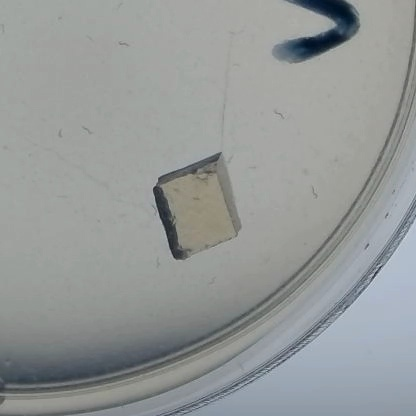worm: (292, 168, 326, 198), (81, 119, 104, 147), (263, 104, 289, 127), (104, 0, 134, 15), (79, 27, 97, 51), (219, 24, 242, 42), (197, 272, 222, 287), (56, 123, 70, 149), (115, 33, 137, 49), (241, 156, 261, 173), (147, 256, 167, 271), (0, 19, 11, 39), (229, 150, 237, 164)
